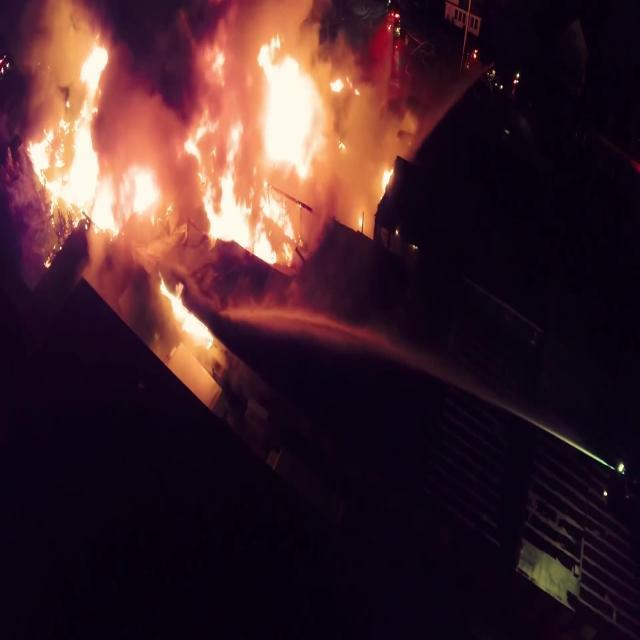Fire: (20, 40, 166, 241), (176, 45, 300, 273), (248, 39, 334, 176)
Smoke: (20, 0, 318, 58)
